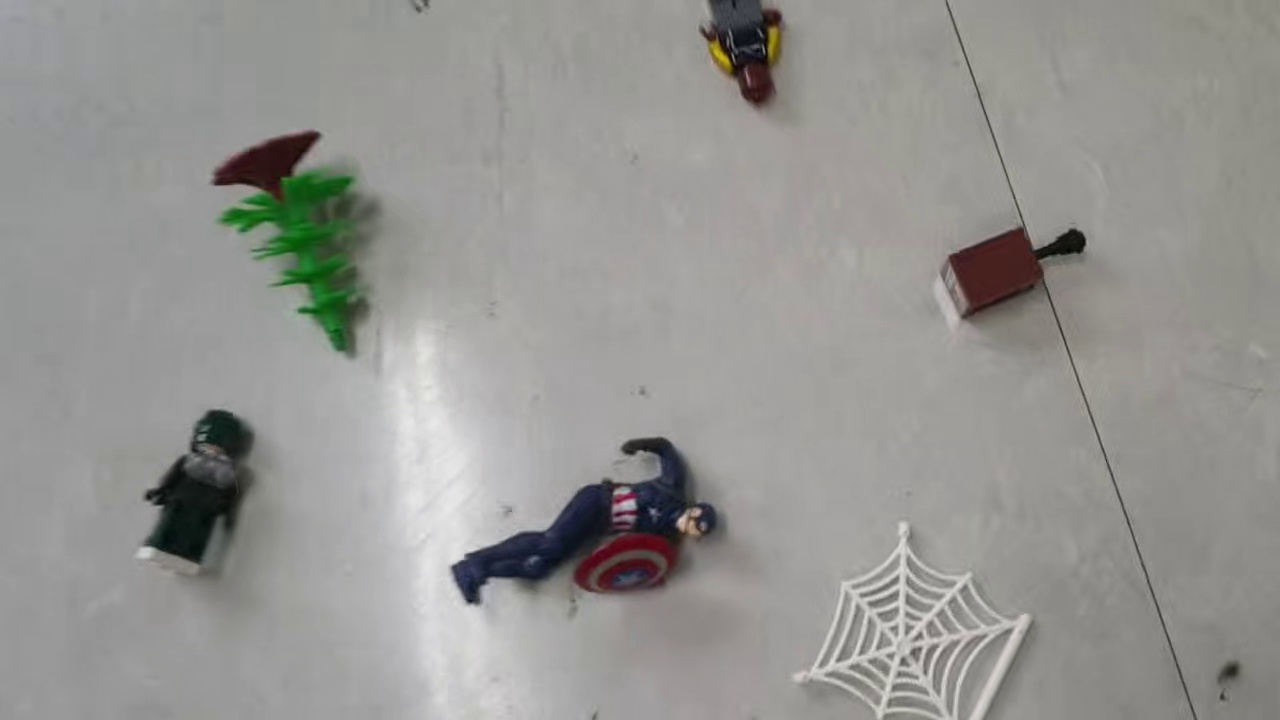box: (935, 221, 1087, 325)
people: (447, 432, 721, 610), (131, 406, 258, 580), (697, 1, 788, 108)
tree: (205, 128, 383, 361)
web: (791, 518, 1038, 720)
